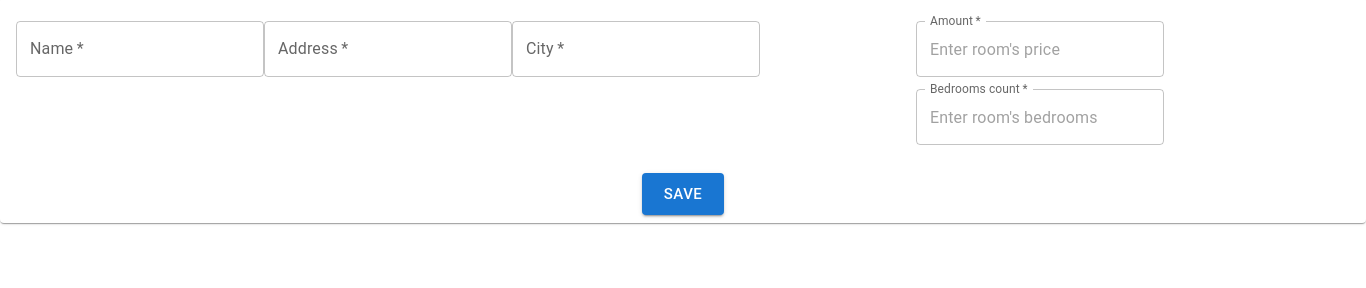
Test: New Room component › has correct city must including only alphabet characters
In the field labelled "City *": (636, 49) top-left (512, 21), bottom-right (760, 77), type "123Benguela"
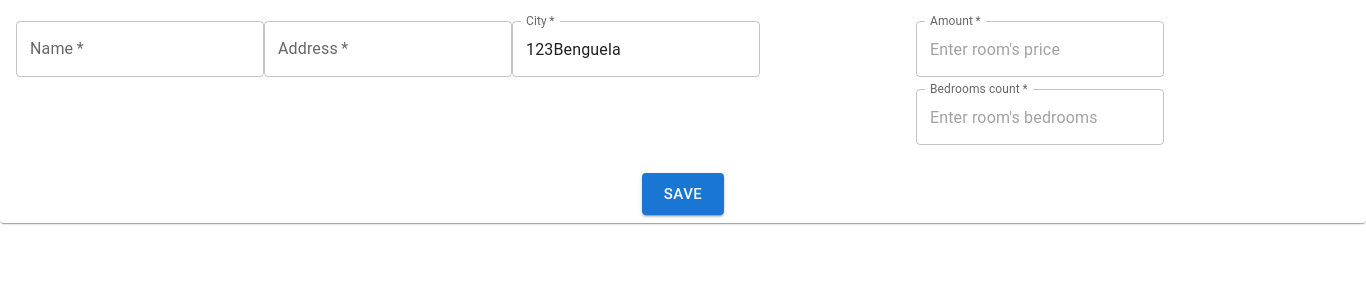
Click the button "save": (683, 194) top-left (642, 173), bottom-right (724, 215)
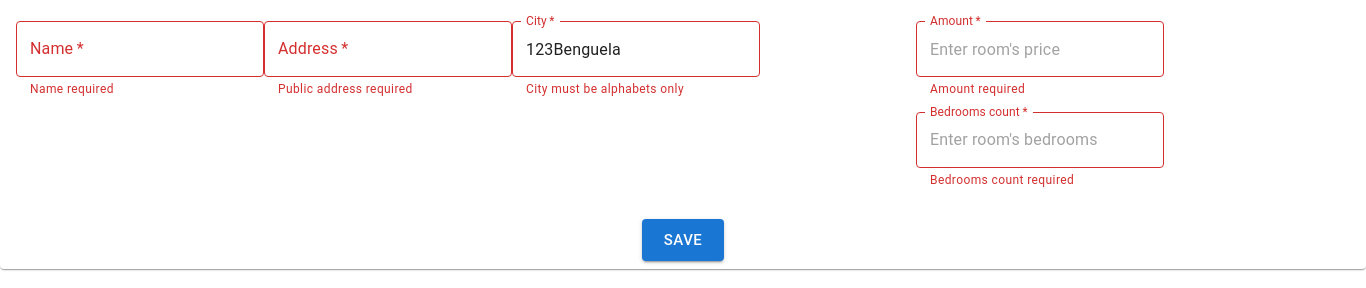
Result: the text "City must be alphabets only" is shown at top-left (526, 82), bottom-right (684, 96)
